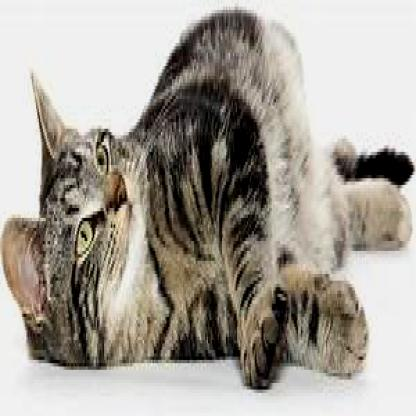cat: (3, 13, 413, 396)
